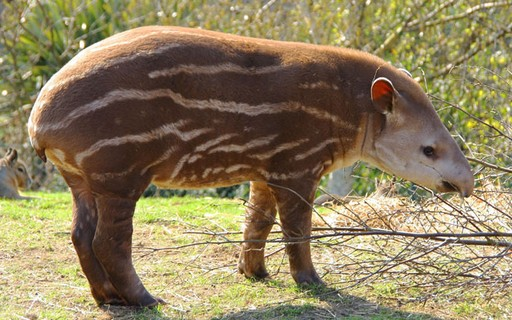Anta: (23, 22, 483, 310)
